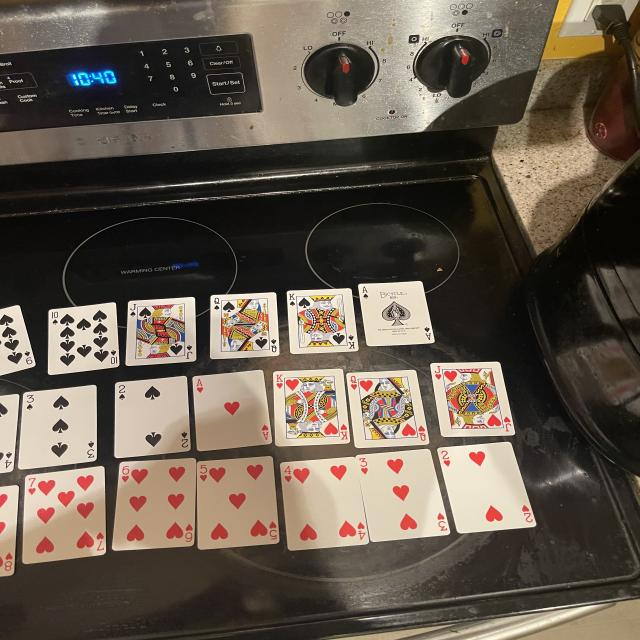10 of spades: (48, 302, 120, 375)
2 of hearts: (438, 442, 537, 534)
2 of spades: (113, 376, 190, 458)
3 of hearts: (357, 449, 450, 541)
3 of spades: (18, 385, 97, 470)
4 of hearts: (280, 458, 368, 551)
4 of spades: (0, 394, 20, 472)
5 of hearts: (197, 456, 280, 550)
6 of hearts: (112, 459, 197, 551)
7 of hearts: (23, 466, 107, 564)
8 of hearts: (0, 485, 18, 576)
9 of spades: (0, 305, 35, 375)
Ace of hearts: (192, 370, 272, 451)
Ace of spades: (358, 281, 435, 346)
Jack of hearts: (430, 361, 515, 436)
Jack of spades: (127, 298, 197, 366)
King of hearts: (273, 369, 350, 446)
King of spades: (287, 289, 358, 354)
Queen of hearts: (347, 370, 430, 448)
Queen of spades: (210, 292, 280, 359)
